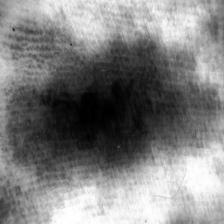Benign Marking or Mole: (3, 47, 209, 166)
